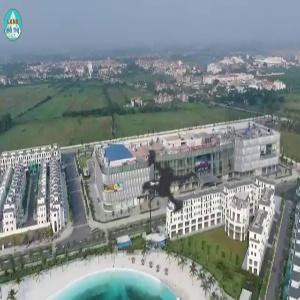drone: (75, 82, 269, 276)
